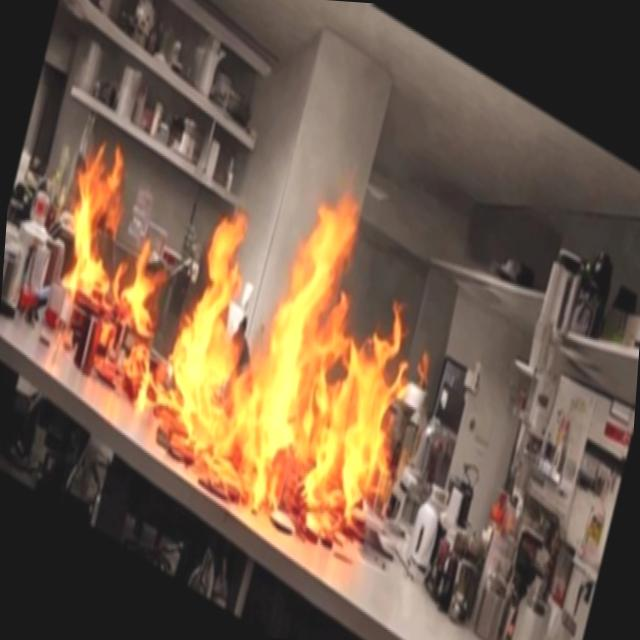fire: (12, 72, 458, 620)
